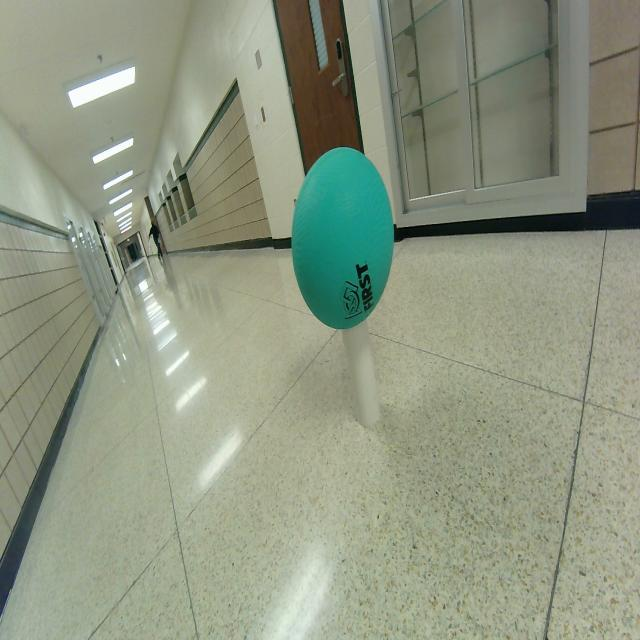algae: (290, 147, 394, 329)
coral: (342, 320, 381, 428)
